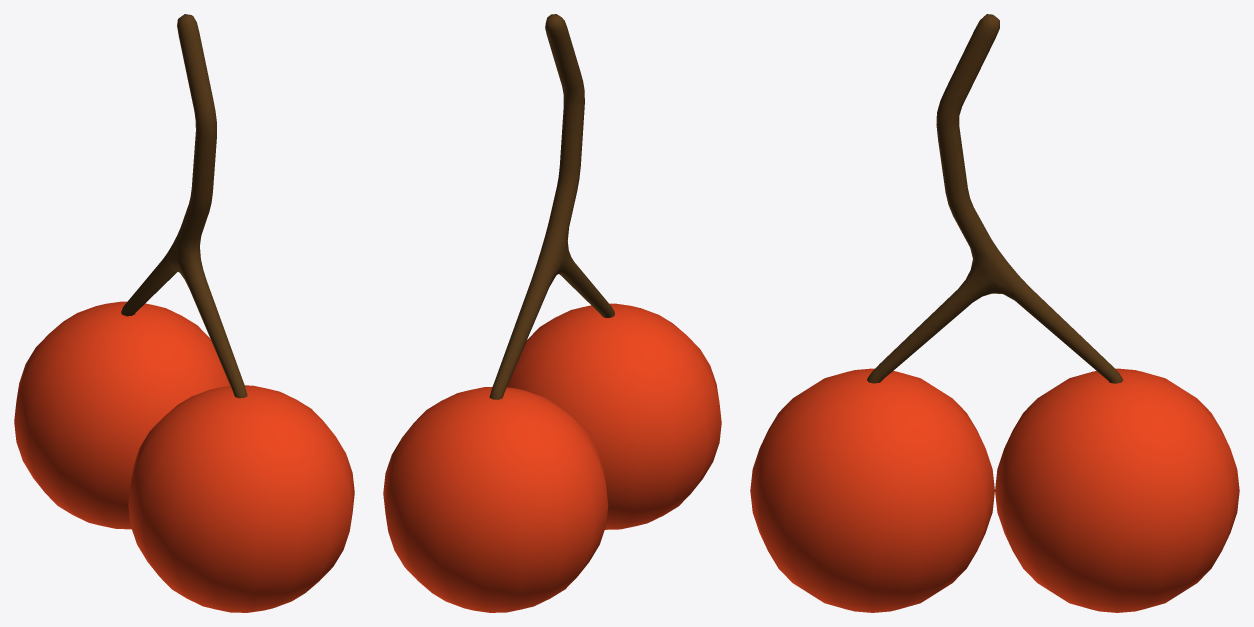
Rendered from Cherry.fbx.
3 views of the same model, side by side, from view 1: azimuth 30°, elevation 25°; view 2: azimuth 150°, elevation 25°; view 3: azimuth 270°, elevation 25° (orthographic). The views are drawn at different scales.
Visible parts, largest first — view 1: Sphere; view 2: Sphere; view 3: Sphere.
Part boxes in pixels (left/top/right/bottom): Sphere: left=14, top=14, right=354, bottom=612; Sphere: left=383, top=14, right=721, bottom=612; Sphere: left=750, top=14, right=1239, bottom=612.
Bounding box in the file's own units: 200 × 529 × 400.
